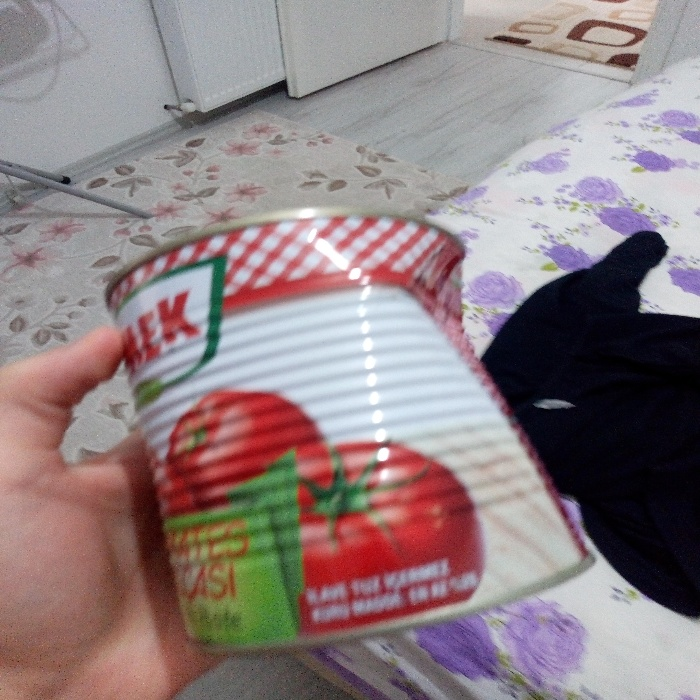salca: (90, 190, 601, 655)
